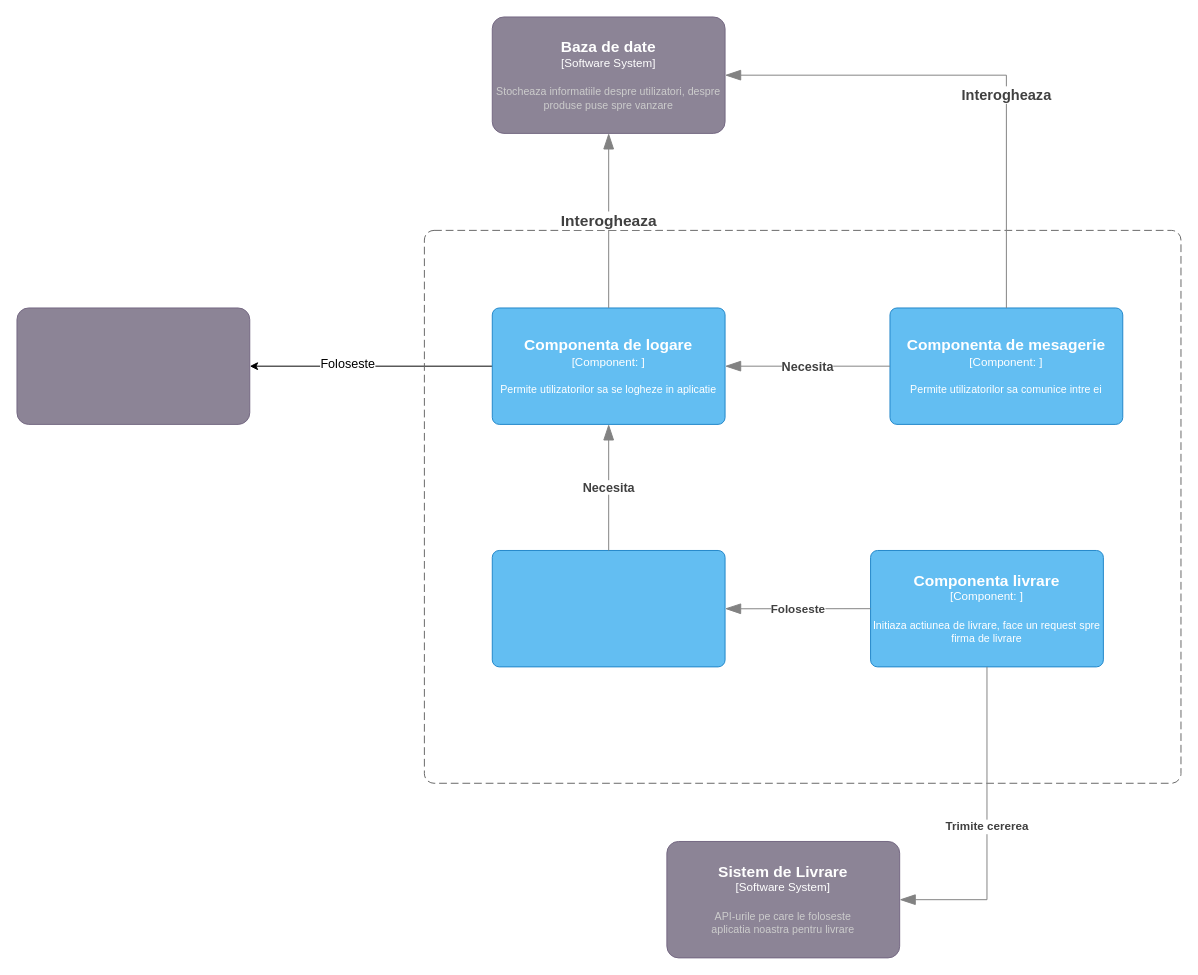
Some shapes in this 1198 by 975 pixel diagram are drawn without their labels. The shapes that lost their labels are listed below. From the top down, each one's box as (x1, y1, x2, y2) in pixels, then its label:
(16, 307, 250, 424): Auth0 [Software System] Metoda de autentificare a unui customer
(423, 229, 1181, 783): API applications [Container]
(491, 550, 725, 667): Sistemul de plata [Component: ] Permite cumparatorilor plata produselor
